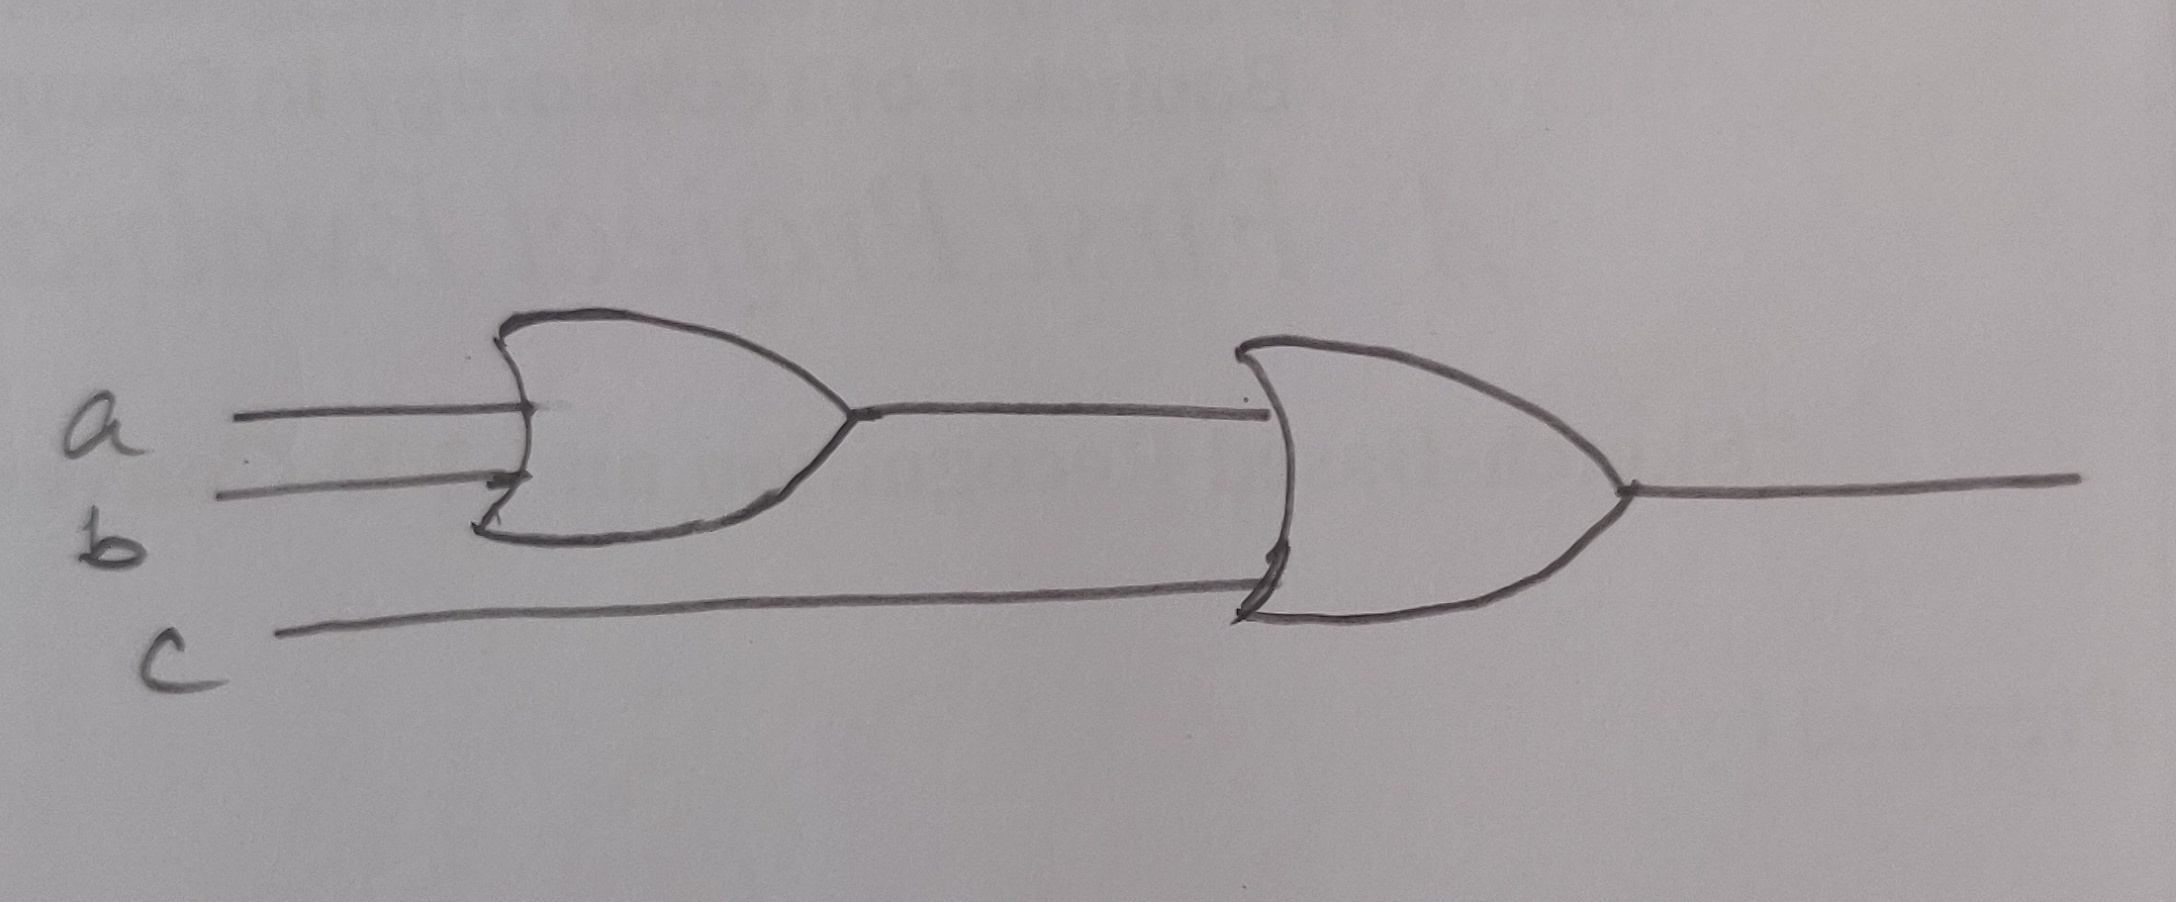or: (1175, 248, 1728, 708), (436, 240, 898, 581)
